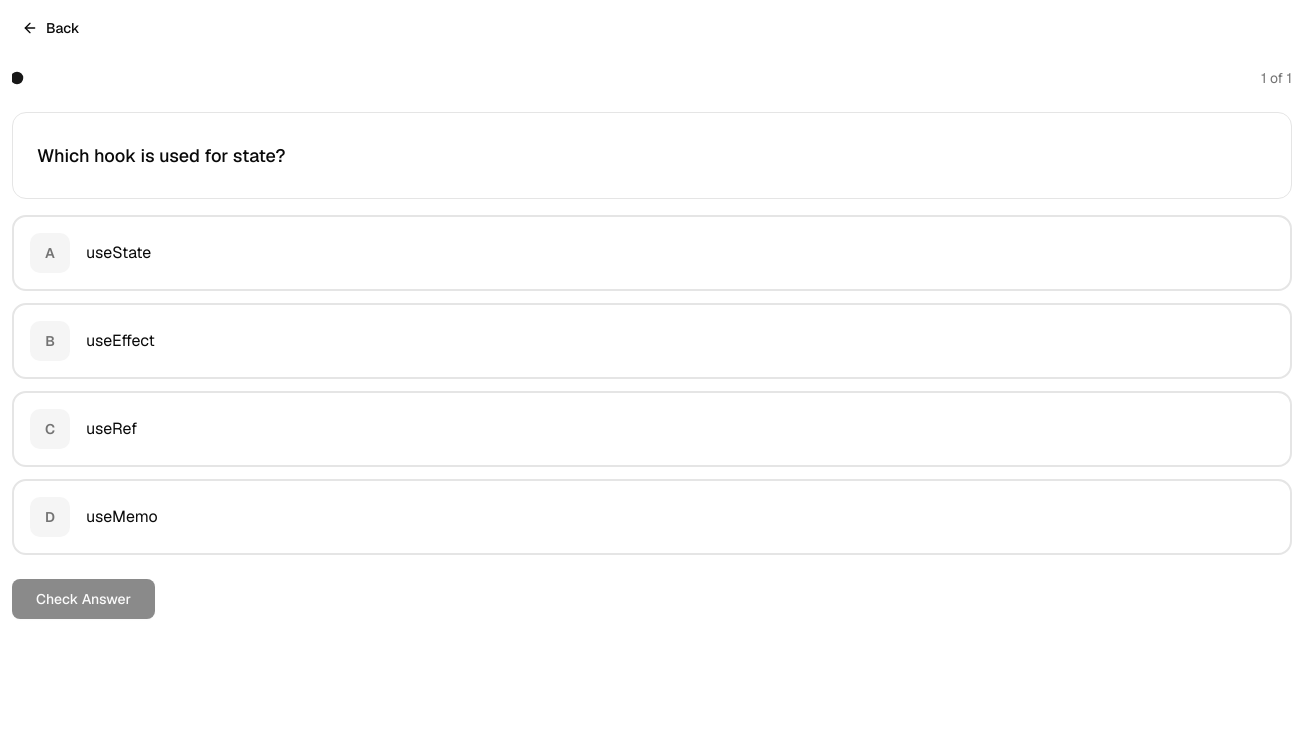
Test case: MixedInterface › question item › shows incorrect result after answering incorrectly
The image size is (1304, 732).
Step 1. Click the text "useEffect" → x=120, y=341, box 86,330 -> 155,351
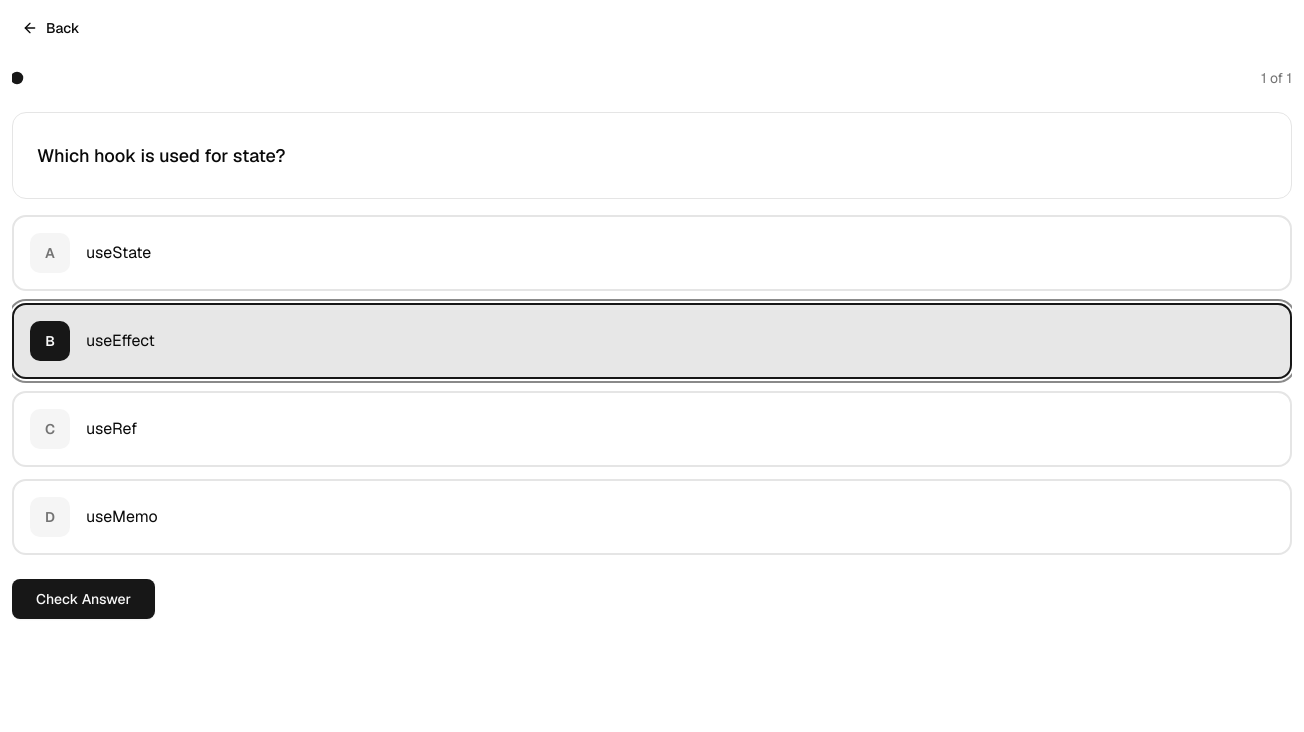
Step 2. Click the button "Check Answer" → x=83, y=599, box 12,579 -> 155,619
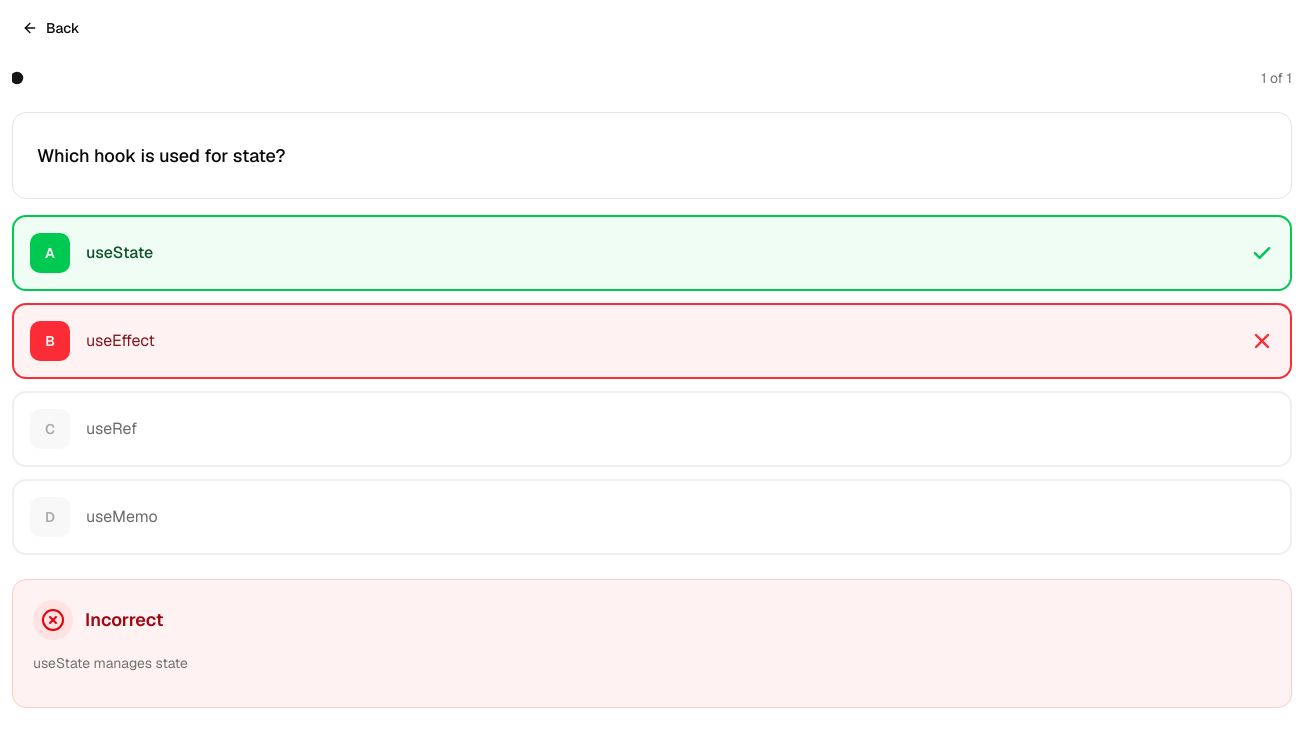
expect the text "useState manages state" is shown: met, box 33,654 -> 188,672
